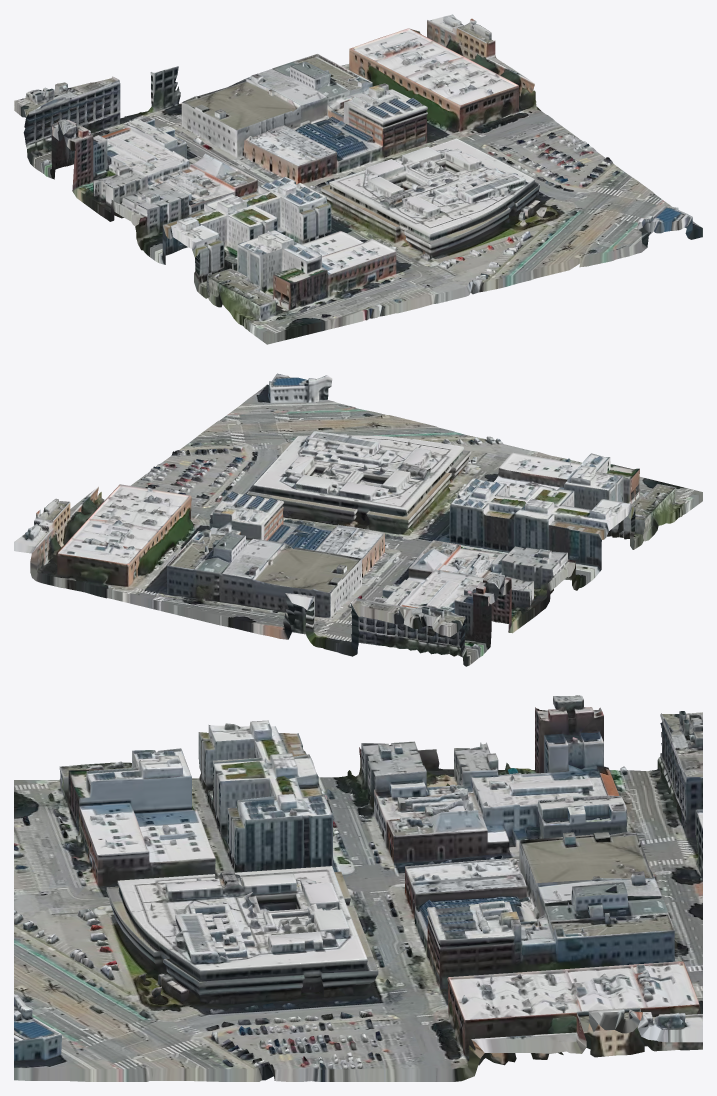
The model's file is z17-20971-50650-h0-yup-uvflip-v3-world.glb.
3 views of the same model, one above another, from view 1: azimuth 30°, elevation 25°; view 2: azimuth 150°, elevation 25°; view 3: azimuth 270°, elevation 25° (orthographic). The views are drawn at different scales.
Size of the model in its own units: 241 by 38.08 by 243.
Materials: 1 (1 with a texture image).
